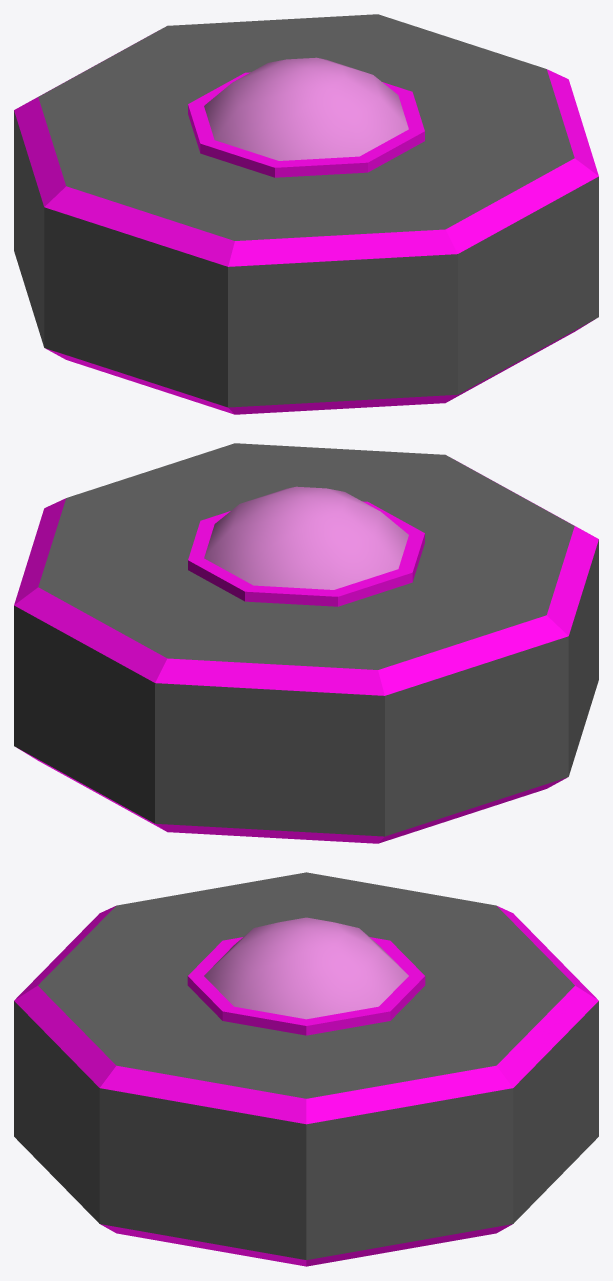
Rendered from PinkCore.fbx.
3 renders of one model, top to bottom at view 1: azimuth 30°, elevation 25°; view 2: azimuth 150°, elevation 25°; view 3: azimuth 270°, elevation 25°, orthographic. The views are drawn at different scales.
Visible parts, largest first — view 1: polySurface13; view 2: polySurface13; view 3: polySurface13.
Part boxes in pixels (x1,y1,x2,y2): polySurface13: (14,14,598,414); polySurface13: (14,443,598,843); polySurface13: (14,872,598,1266).
Bounding box in the file's own units: 3.35 × 1.42 × 3.35.
